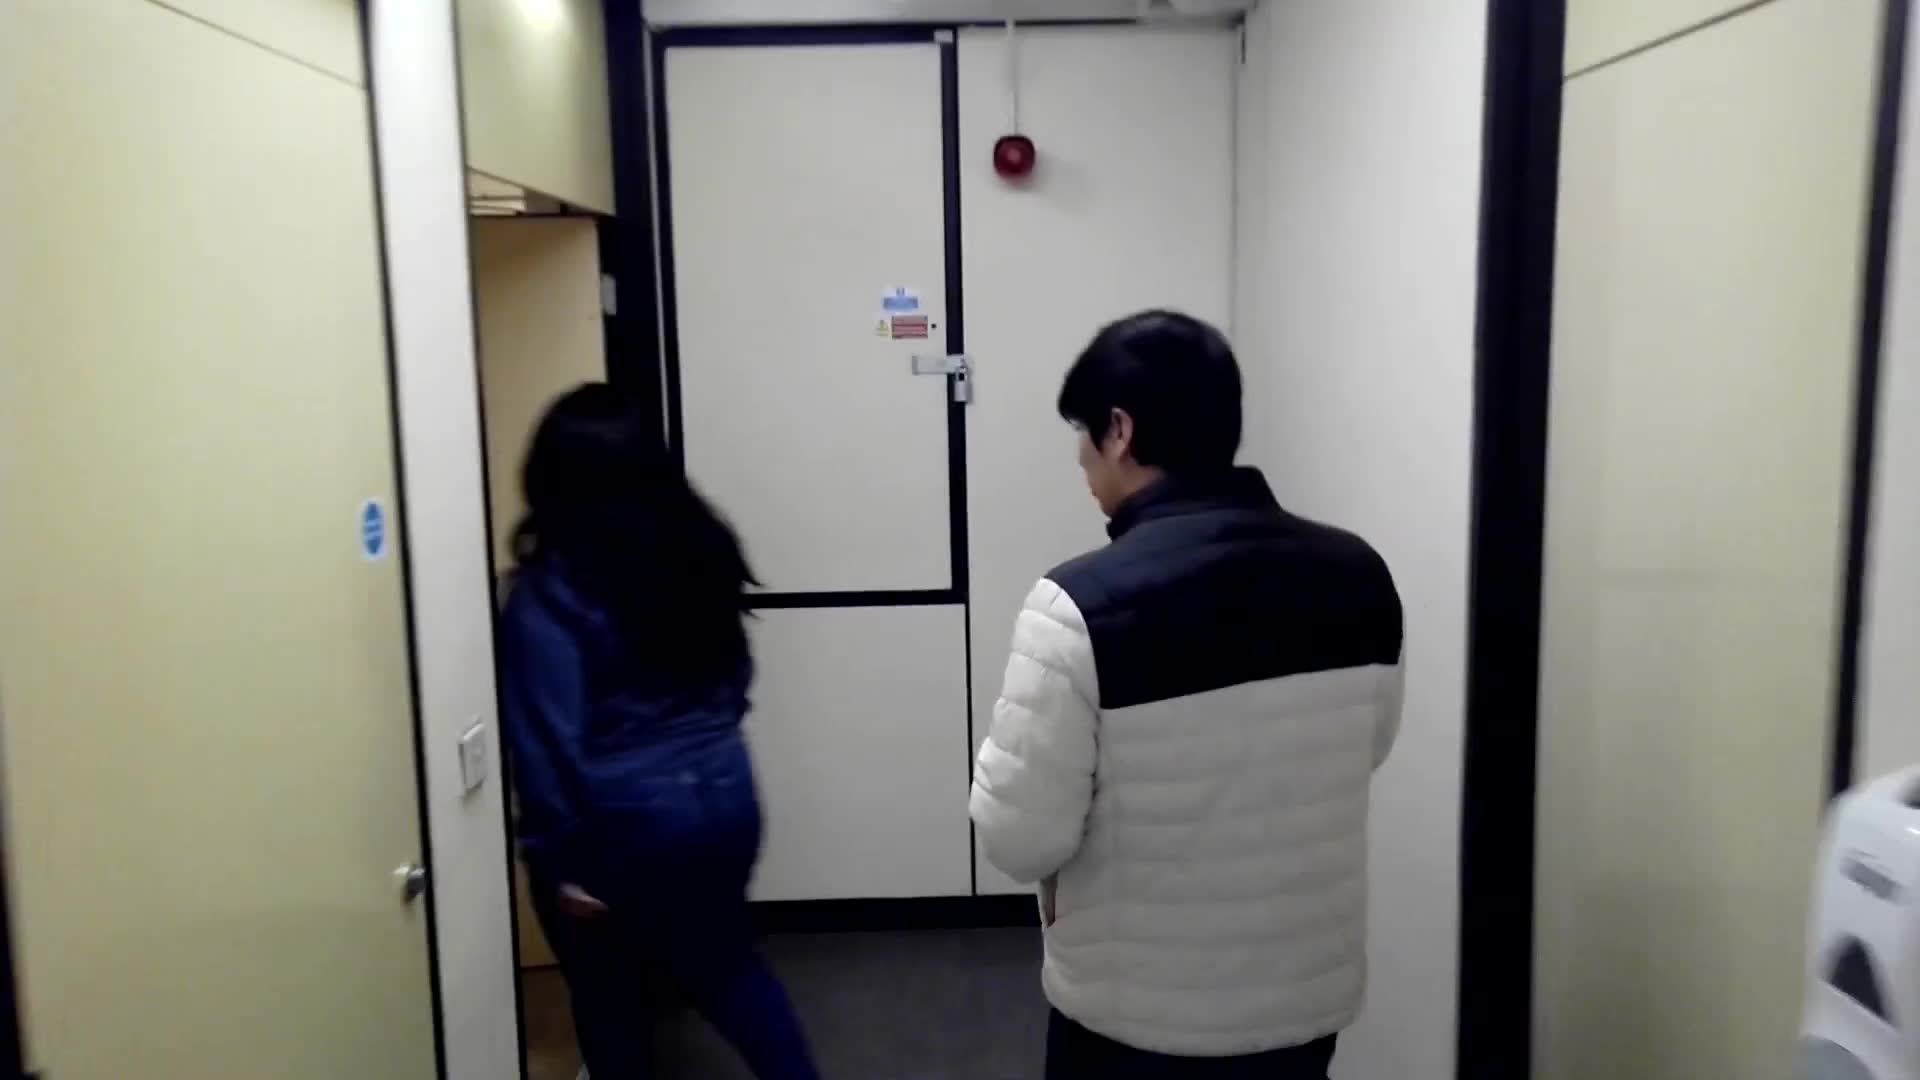Door: (1, 67, 466, 1080)
Person: (1029, 313, 1429, 1079), (508, 382, 785, 1057)
